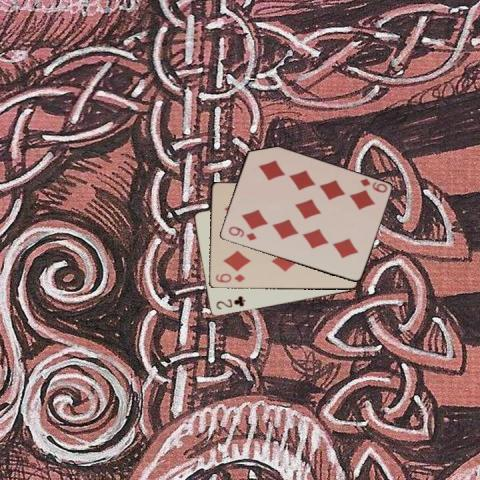2c: (213, 293, 246, 311)
6d: (213, 271, 246, 284)
9d: (225, 223, 258, 242), (356, 176, 388, 194)
